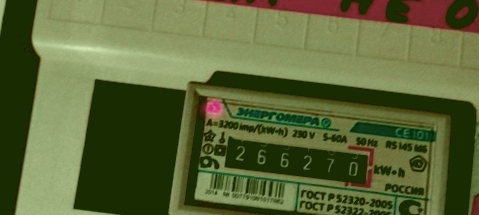0: (345, 158, 359, 177)
2: (231, 142, 246, 161), (299, 152, 312, 171)
6: (253, 146, 268, 165), (276, 150, 290, 169)
7: (322, 155, 335, 174)
screen: (212, 125, 380, 194)
